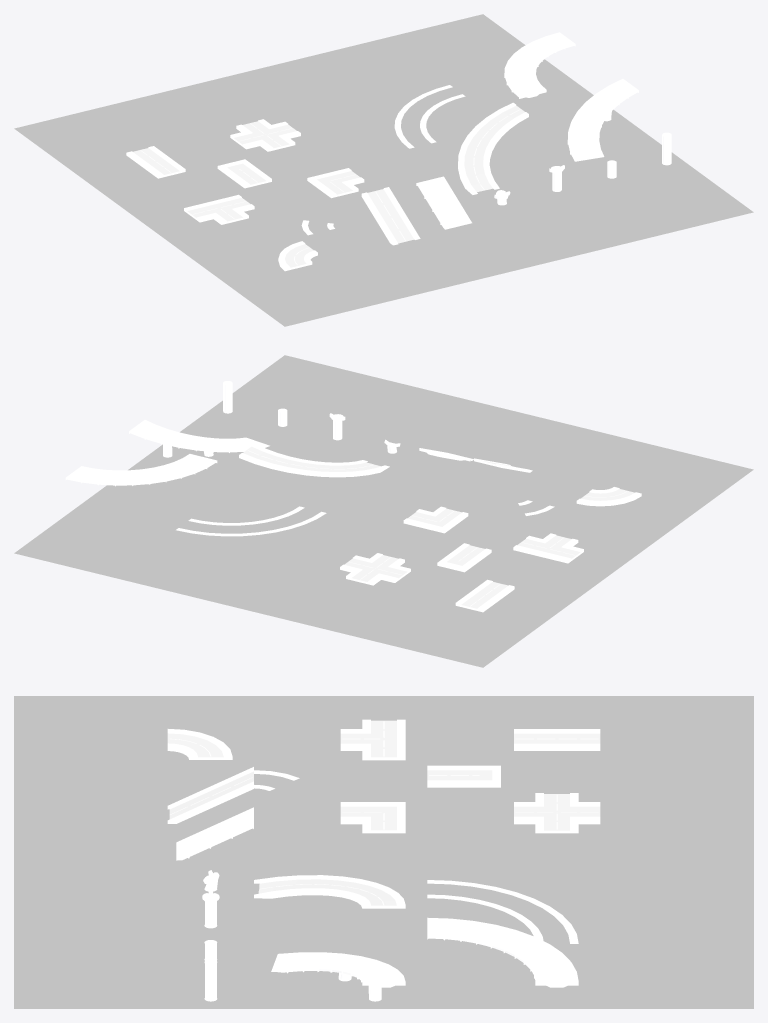
The model's file is roads.glb.
The picture shows the model from 3 angles, top to bottom: view 1: azimuth 30°, elevation 25°; view 2: azimuth 150°, elevation 25°; view 3: azimuth 270°, elevation 25°; orthographic projection. The views are drawn at different scales.
Visible parts, largest first — view 1: floor, Road90_2x2Up_Placeable_0, Road90_2x2upBridge_Placeable_0, Road90_2x2Bridge_Placeable_0, RoadForwardUp_Placeable_0, RoadX_Placeable_0, RoadUpBridge_Placeable_0, RoadT_Placeable_0, RoadAngle_Placeable_0, RoadForward_Placeable_0, RoadEnd_Placeable_0, Road90_2x2_Placeable_0 (+1 smaller); view 2: floor, Road90_2x2Bridge_Placeable_0, Road90_2x2Up_Placeable_0, Road90_2x2upBridge_Placeable_0, RoadX_Placeable_0, RoadT_Placeable_0, RoadAngle_Placeable_0, RoadForward_Placeable_0, Road90_2x2_Placeable_0, RoadEnd_Placeable_0, Road90_Placeable_0; view 3: floor, Road90_2x2Bridge_Placeable_0, Road90_2x2Up_Placeable_0, Road90_2x2upBridge_Placeable_0, RoadX_Placeable_0, RoadT_Placeable_0, RoadForwardUp_Placeable_0, RoadForward_Placeable_0, RoadAngle_Placeable_0, RoadEnd_Placeable_0, RoadUpBridge_Placeable_0, Road90_2x2_Placeable_0 (+2 smaller).
Part boxes in pixels (x1=…): floor: x1=14, y1=14, x2=753, y2=326; Road90_2x2Up_Placeable_0: x1=458, y1=102, x2=528, y2=194; Road90_2x2upBridge_Placeable_0: x1=567, y1=79, x2=638, y2=161; Road90_2x2Bridge_Placeable_0: x1=504, y1=32, x2=575, y2=98; RoadForwardUp_Placeable_0: x1=361, y1=187, x2=420, y2=245; RoadX_Placeable_0: x1=230, y1=119, x2=300, y2=151; RoadUpBridge_Placeable_0: x1=416, y1=176, x2=471, y2=229; RoadT_Placeable_0: x1=184, y1=194, x2=254, y2=224; RoadAngle_Placeable_0: x1=307, y1=168, x2=364, y2=198; RoadForward_Placeable_0: x1=126, y1=146, x2=185, y2=178; RoadEnd_Placeable_0: x1=217, y1=159, x2=271, y2=188; Road90_2x2_Placeable_0: x1=394, y1=85, x2=465, y2=148; floor: x1=14, y1=355, x2=753, y2=667; Road90_2x2Bridge_Placeable_0: x1=65, y1=454, x2=217, y2=486; Road90_2x2Up_Placeable_0: x1=239, y1=443, x2=389, y2=477; Road90_2x2upBridge_Placeable_0: x1=129, y1=420, x2=269, y2=452; RoadX_Placeable_0: x1=340, y1=553, x2=410, y2=585; RoadT_Placeable_0: x1=513, y1=533, x2=583, y2=563; RoadAngle_Placeable_0: x1=403, y1=506, x2=468, y2=533; RoadForward_Placeable_0: x1=455, y1=579, x2=514, y2=612; Road90_2x2_Placeable_0: x1=176, y1=506, x2=326, y2=536; RoadEnd_Placeable_0: x1=437, y1=543, x2=491, y2=572; Road90_Placeable_0: x1=576, y1=487, x2=641, y2=506; floor: x1=14, y1=696, x2=753, y2=1008; Road90_2x2Bridge_Placeable_0: x1=427, y1=917, x2=578, y2=987; Road90_2x2Up_Placeable_0: x1=254, y1=875, x2=405, y2=908; Road90_2x2upBridge_Placeable_0: x1=271, y1=952, x2=405, y2=987; RoadX_Placeable_0: x1=514, y1=793, x2=600, y2=833; RoadT_Placeable_0: x1=340, y1=719, x2=405, y2=760; RoadForwardUp_Placeable_0: x1=167, y1=767, x2=253, y2=823; RoadForward_Placeable_0: x1=514, y1=729, x2=600, y2=750; RoadAngle_Placeable_0: x1=340, y1=802, x2=405, y2=833; RoadEnd_Placeable_0: x1=427, y1=765, x2=500, y2=787; RoadUpBridge_Placeable_0: x1=176, y1=807, x2=253, y2=860; Road90_2x2_Placeable_0: x1=427, y1=880, x2=578, y2=943.
Size of the model in its own units: 175 by 12.51 by 171.
Materials: 1 (1 with a texture image).
